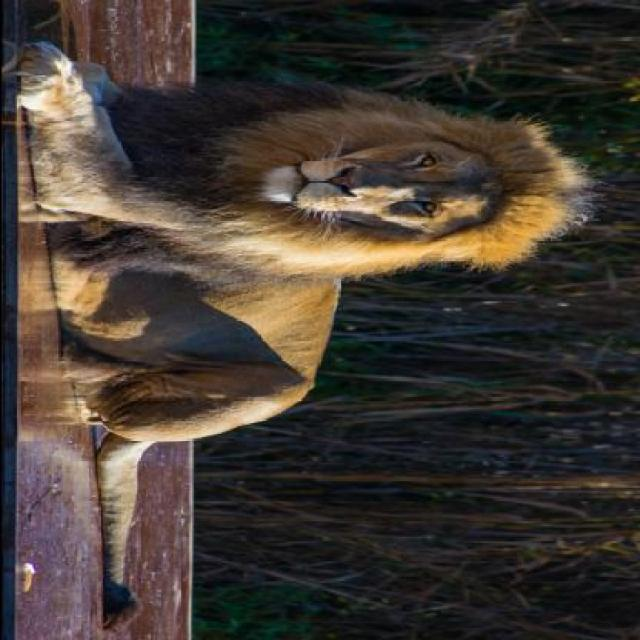Lion: (1, 40, 618, 628)
